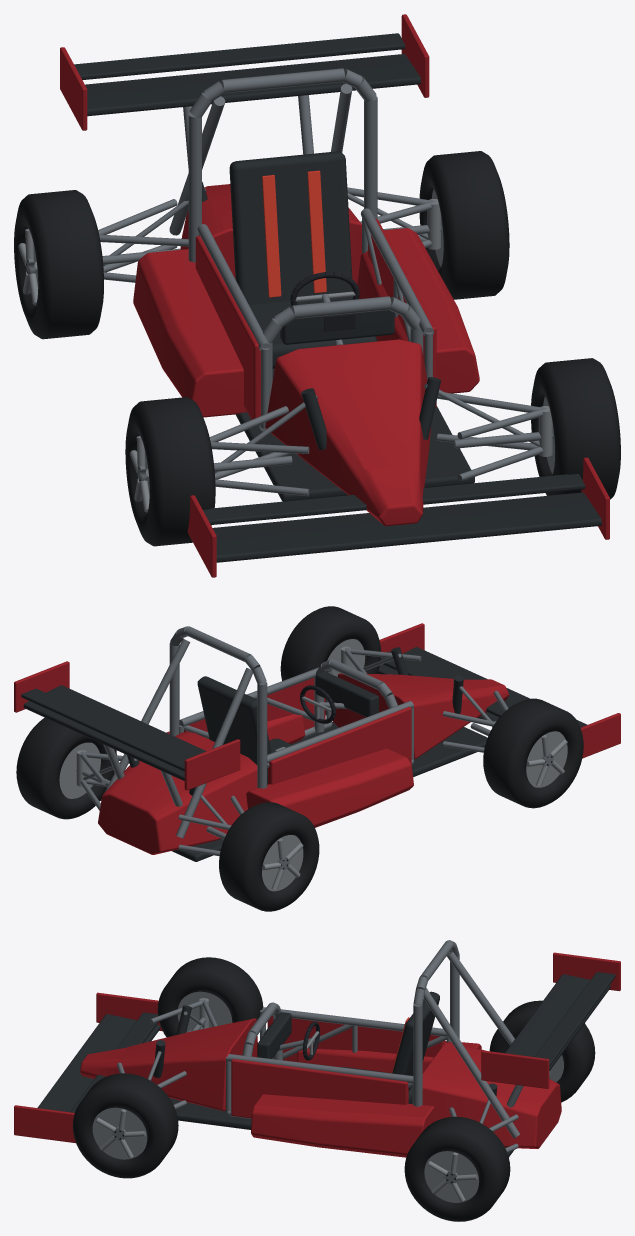
Rendered from car-source.glb.
3 renders of one model, top to bottom at view 1: azimuth 30°, elevation 25°; view 2: azimuth 150°, elevation 25°; view 3: azimuth 270°, elevation 25°, orthographic. The views are drawn at different scales.
Visible parts, largest first — view 1: FSAE_Nose, FSAE_SeatBack, FSAE_WingMain, FSAE_Sidepod_-1, Left_Rear_SlickTire, Right_Rear_SlickTire, Left_Front_SlickTire, Right_Front_SlickTire, FSAE_WingMain.001, FSAE_Sidepod_1, FSAE_WingFlap.001, FSAE_WingFlap (+25 smaller); view 2: FSAE_RearBody, FSAE_Sidepod_-1, Left_Front_SlickTire, Left_Rear_SlickTire, FSAE_Nose, Right_Rear_SlickTire, FSAE_CockpitSide_-1, Right_Front_SlickTire, FSAE_WingMain.001, FSAE_SeatBack, FSAE_WingFlap.001, FSAE_Undertray (+21 smaller); view 3: FSAE_Sidepod_1, FSAE_Nose, FSAE_RearBody, Right_Front_SlickTire, Right_Rear_SlickTire, FSAE_CockpitSide_1, Left_Front_SlickTire, FSAE_WingMain, FSAE_WingMain.001, Left_Rear_SlickTire, FSAE_CockpitSide_-1, FSAE_WingEndplate.003 (+19 smaller).
Part boxes in pixels (x1,y1,x2,y2): FSAE_Nose: (265, 339, 431, 526); FSAE_SeatBack: (229, 151, 352, 304); FSAE_WingMain: (212, 492, 601, 562); FSAE_Sidepod_-1: (133, 249, 246, 417); Left_Rear_SlickTire: (14, 190, 103, 339); Right_Rear_SlickTire: (419, 151, 509, 299); Left_Front_SlickTire: (125, 397, 215, 546); Right_Front_SlickTire: (531, 358, 620, 499); FSAE_WingMain.001: (85, 54, 420, 116); FSAE_Sidepod_1: (357, 228, 479, 393); FSAE_WingFlap.001: (74, 33, 405, 79); FSAE_WingFlap: (203, 474, 585, 524); FSAE_RearBody: (98, 732, 257, 854); FSAE_Sidepod_-1: (246, 748, 413, 827); Left_Front_SlickTire: (483, 698, 583, 808); Left_Rear_SlickTire: (219, 802, 319, 911); FSAE_Nose: (332, 673, 509, 759); Right_Rear_SlickTire: (16, 717, 116, 819); FSAE_CockpitSide_-1: (268, 706, 411, 784); Right_Front_SlickTire: (280, 606, 380, 714); FSAE_WingMain.001: (23, 685, 206, 780); FSAE_SeatBack: (197, 676, 271, 784); FSAE_WingFlap.001: (21, 688, 188, 771); FSAE_Undertray: (172, 722, 487, 861); FSAE_Sidepod_1: (251, 1094, 435, 1157); FSAE_Nose: (80, 1018, 257, 1110); FSAE_RearBody: (422, 1042, 561, 1148); Right_Front_SlickTire: (72, 1073, 178, 1178); Right_Rear_SlickTire: (404, 1116, 510, 1221); FSAE_CockpitSide_1: (231, 1059, 408, 1118); Left_Front_SlickTire: (157, 957, 263, 1037); FSAE_WingMain: (37, 1014, 160, 1112); FSAE_WingMain.001: (505, 974, 610, 1070); Left_Rear_SlickTire: (489, 1000, 595, 1102); FSAE_CockpitSide_-1: (267, 1016, 444, 1061); FSAE_WingEndplate.003: (481, 1050, 549, 1088).
Bounding box in the file's own units: 0.3004 × 0.1424 × 0.4105.
